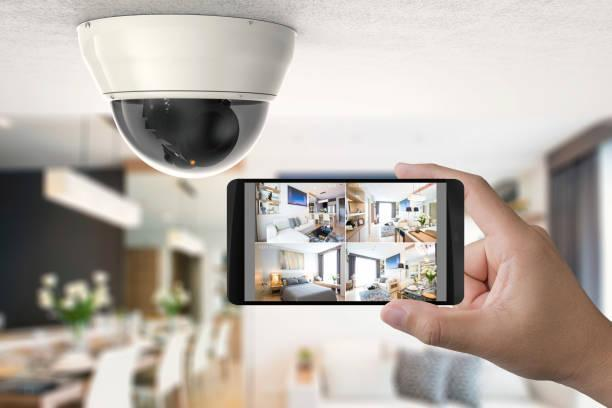camera: (68, 4, 289, 197)
